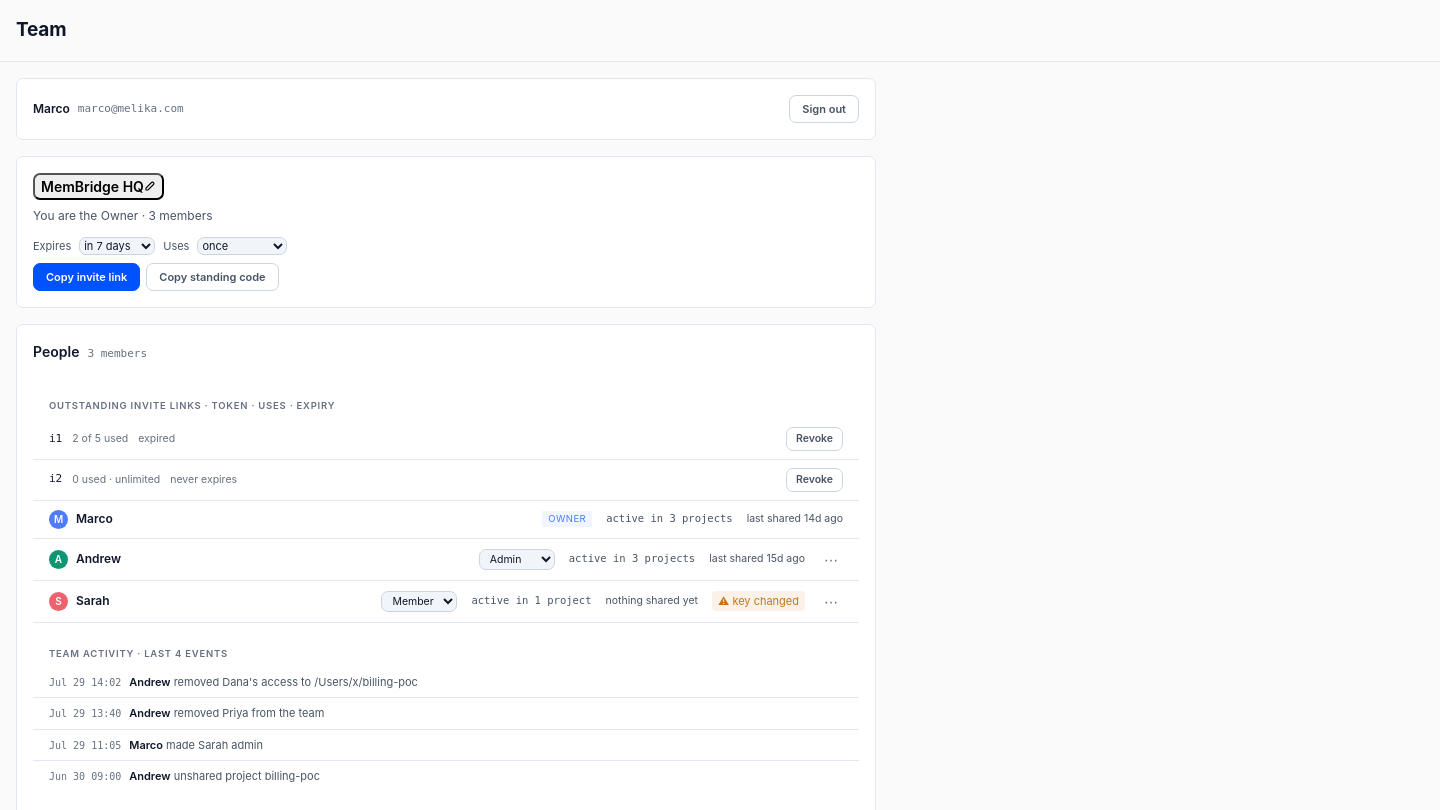
Scenario: TeamPage, signed in on a team › offers no save until the name actually changes
What coordinates should you click on to do the following:
click the button with test id "team-name-pill"
I would click on:
 (98, 186)
Its box is [33, 173, 164, 200].
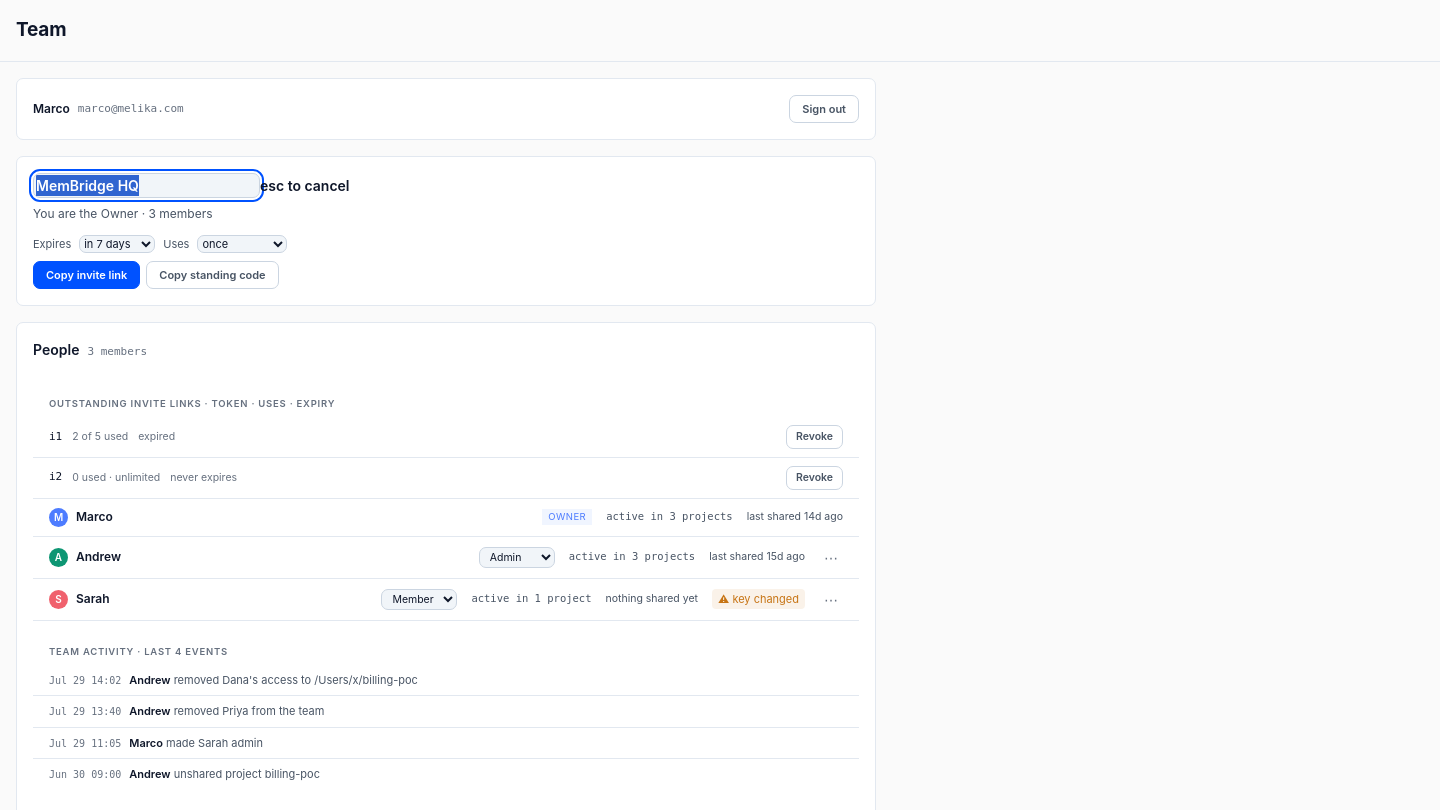
Expected: the field with test id "team-name-pill-input" is shown, [33, 173, 260, 198]
